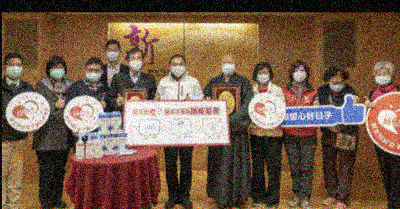with_mask: (374, 70, 392, 87), (5, 62, 21, 78), (170, 61, 185, 78), (128, 55, 142, 72), (328, 79, 345, 93), (86, 67, 101, 82), (221, 59, 235, 75), (50, 65, 64, 80), (292, 68, 306, 83), (106, 47, 119, 63), (256, 70, 269, 84)
